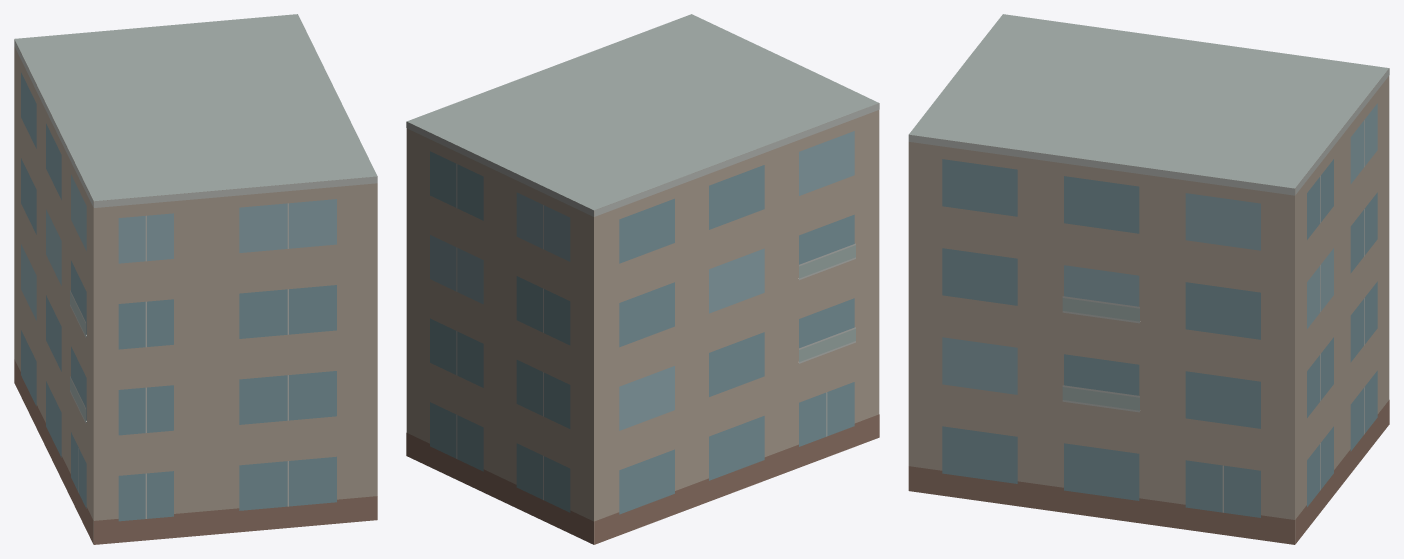
File: residential-ec3df5eb-f2a0-4a2f-9f87-b139bd214529.glb
3 renders of one model, left to right at view 1: azimuth 30°, elevation 25°; view 2: azimuth 150°, elevation 25°; view 3: azimuth 270°, elevation 25°, orthographic. The views are drawn at different scales.
Parts seen in each view (by area): view 1: residential-ec3df5eb-f2a0-4a2f-9f87-b139bd214529.tmp; view 2: residential-ec3df5eb-f2a0-4a2f-9f87-b139bd214529.tmp; view 3: residential-ec3df5eb-f2a0-4a2f-9f87-b139bd214529.tmp.
Boxes of the visible parts, left/top/right/bottom form: residential-ec3df5eb-f2a0-4a2f-9f87-b139bd214529.tmp: left=14, top=14, right=377, bottom=544; residential-ec3df5eb-f2a0-4a2f-9f87-b139bd214529.tmp: left=406, top=14, right=879, bottom=544; residential-ec3df5eb-f2a0-4a2f-9f87-b139bd214529.tmp: left=908, top=14, right=1389, bottom=544.
Size of the model in its own units: 12.83 by 12.2 by 14.93.
